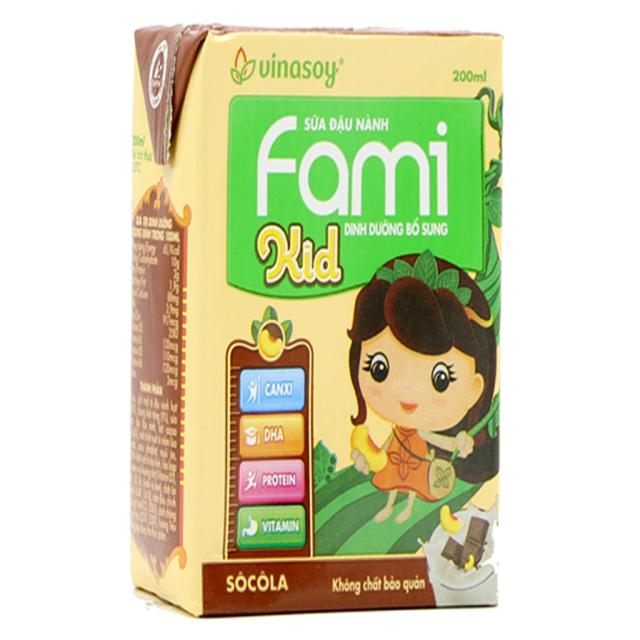Fami: (131, 22, 503, 619)
